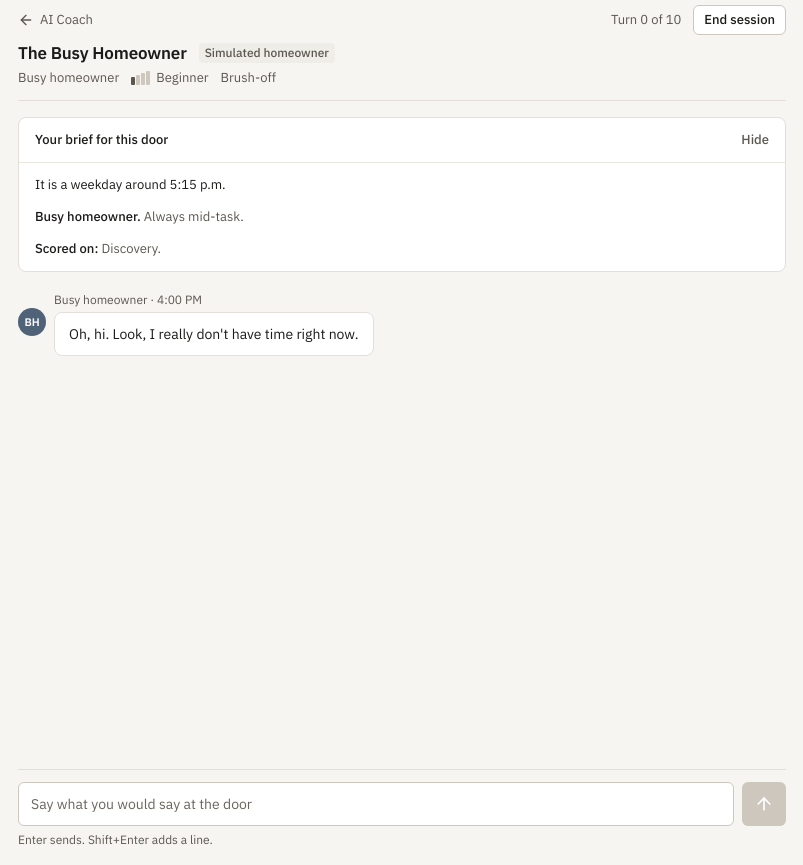
practice conversation › shows the conversation ending when the homeowner closes it
The image size is (803, 865).
Type "I know you are short on time. Is there a better time today?" into the text box named "Your response to the homeowner" at (376, 804), box [18,782,734,826]
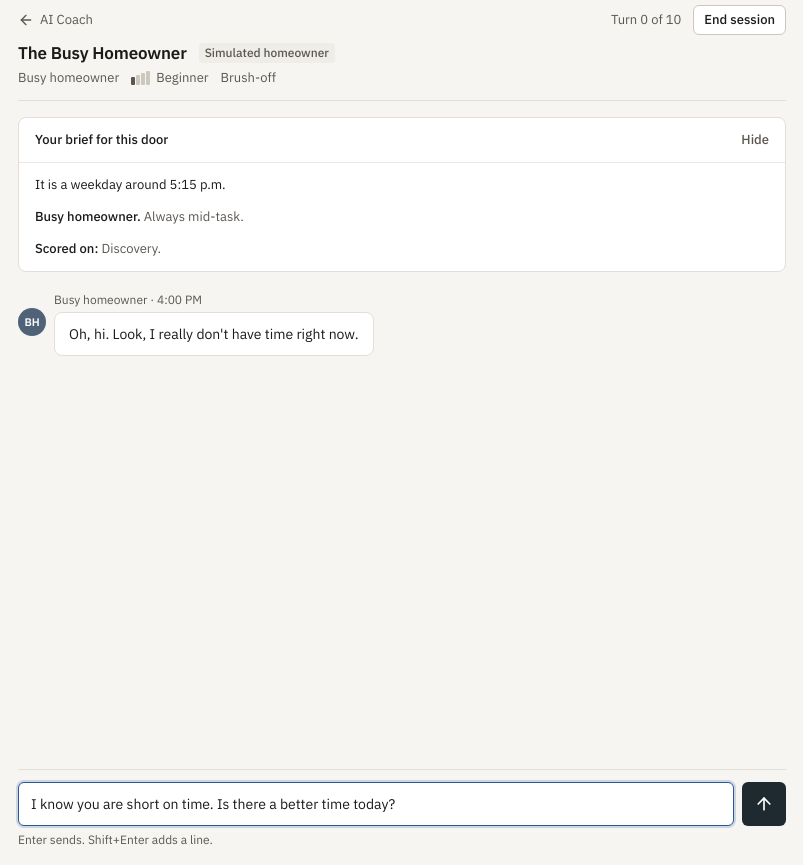
Click the button named "Send message" at (764, 804), box [742,782,786,826]
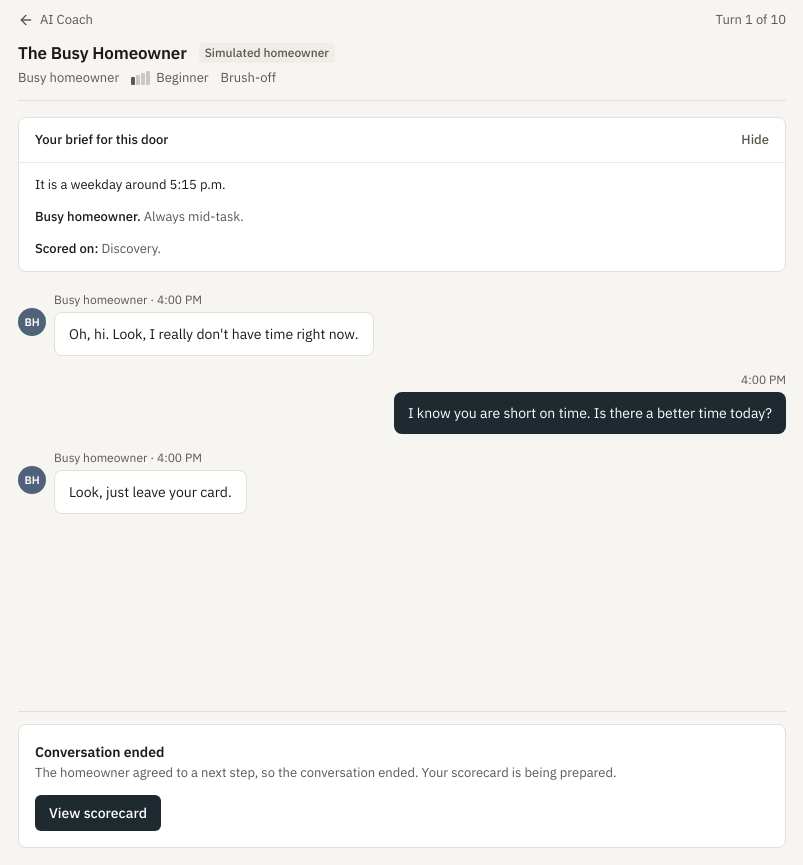
Check: the field labelled "Your response to the homeowner" is not shown
Check: the text "Conversation ended" is shown, box [35,743,164,761]
Check: the text "homeowner agreed to a next step" is shown, box [35,764,418,781]
